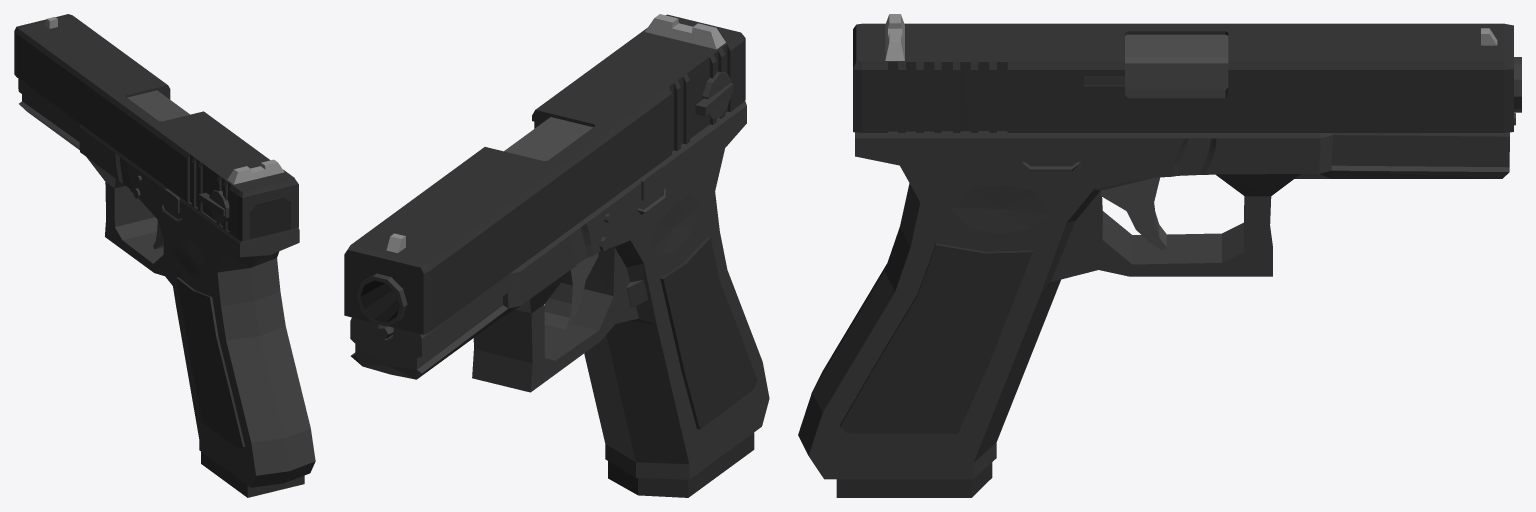
File: Pistol.fbx
3 renders of one model, left to right at view 1: azimuth 30°, elevation 25°; view 2: azimuth 150°, elevation 25°; view 3: azimuth 270°, elevation 25°, orthographic. The views are drawn at different scales.
Visible parts, largest first — view 1: Pistol; view 2: Pistol; view 3: Pistol.
Boxes of the visible parts, x1=… form: Pistol: x1=14, y1=14, x2=315, y2=497; Pistol: x1=344, y1=14, x2=769, y2=497; Pistol: x1=798, y1=14, x2=1521, y2=497.
Size of the model in its own units: 3.11 by 13.48 by 19.67.
